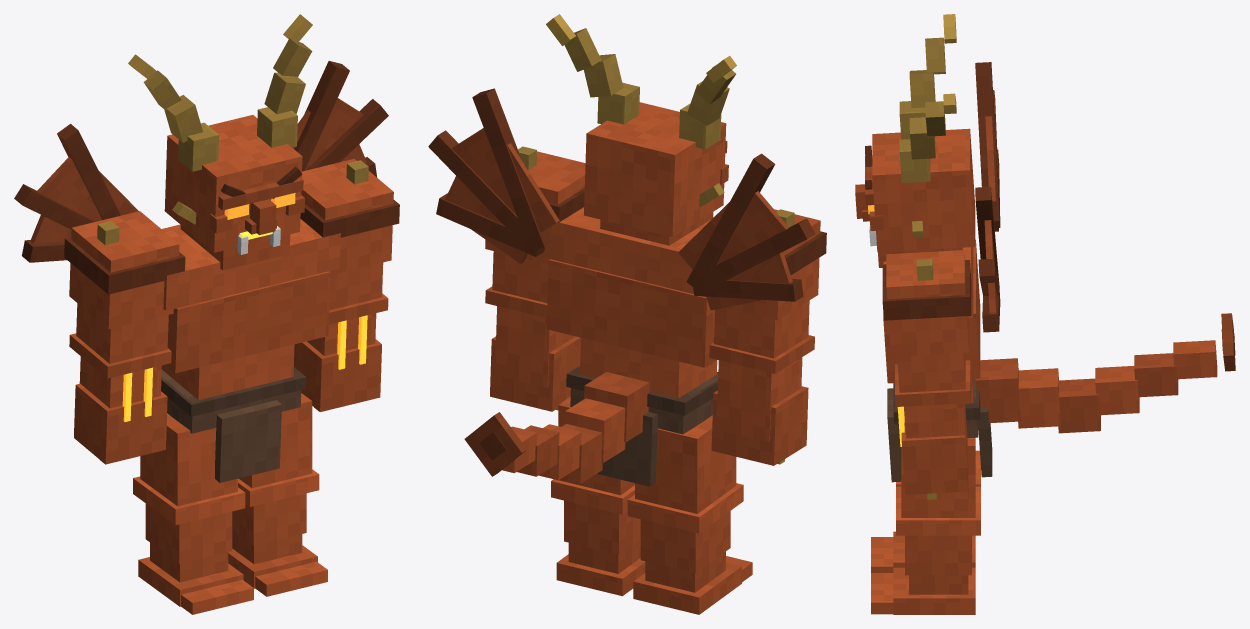
Rendered from demon_base_v2.glb.
3 renders of one model, left to right at view 1: azimuth 30°, elevation 25°; view 2: azimuth 150°, elevation 25°; view 3: azimuth 270°, elevation 25°, orthographic. The views are drawn at different scales.
Parts seen in each view (by area): view 1: Torso, ArmR, Head, ArmL, LegR, LegL; view 2: Torso, Head, ArmR, LegR, ArmL, LegL; view 3: Torso, ArmL, Head, LegL, LegR.
Part boxes in pixels (x1,y1,x2,y2): Torso: [14, 61, 388, 482]; ArmR: [64, 211, 185, 464]; Head: [128, 14, 312, 270]; ArmL: [294, 158, 399, 411]; LegR: [133, 413, 253, 614]; LegL: [228, 393, 327, 596]; Torso: [428, 88, 815, 486]; Head: [546, 14, 736, 245]; ArmR: [709, 209, 826, 465]; LegR: [627, 415, 752, 614]; ArmL: [485, 146, 585, 411]; LegL: [551, 396, 645, 596]; Torso: [883, 62, 1235, 482]; ArmL: [882, 250, 971, 499]; Head: [855, 14, 975, 267]; LegL: [871, 438, 980, 614]; LegR: [871, 450, 980, 572].
Size of the model in its own units: 1.58 by 2.2 by 1.44.
Materials: 29 (29 with a texture image).
